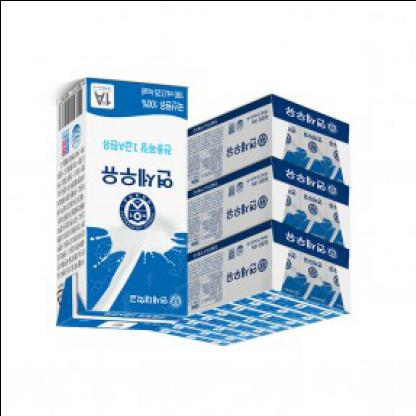tetra: (27, 63, 204, 356)
